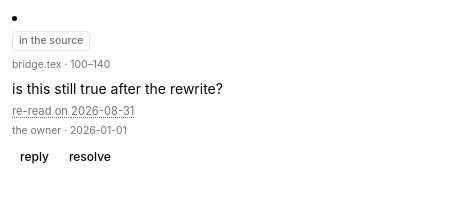
Test: what this app used to make of the same annotation › and the old words are one press behind it, because the replies answer them
What coordinates should you click on to do the following:
click the button "re-read on 2026-08-31"
I would click on:
 (73, 111)
Its box is [12,103,134,119].
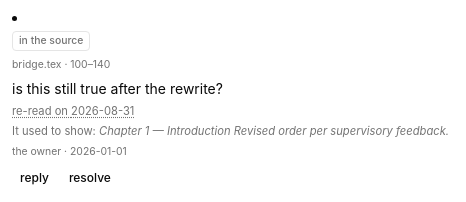
Now the element with test id "reread-was" shows "Revised order", box [99,124,449,138]
